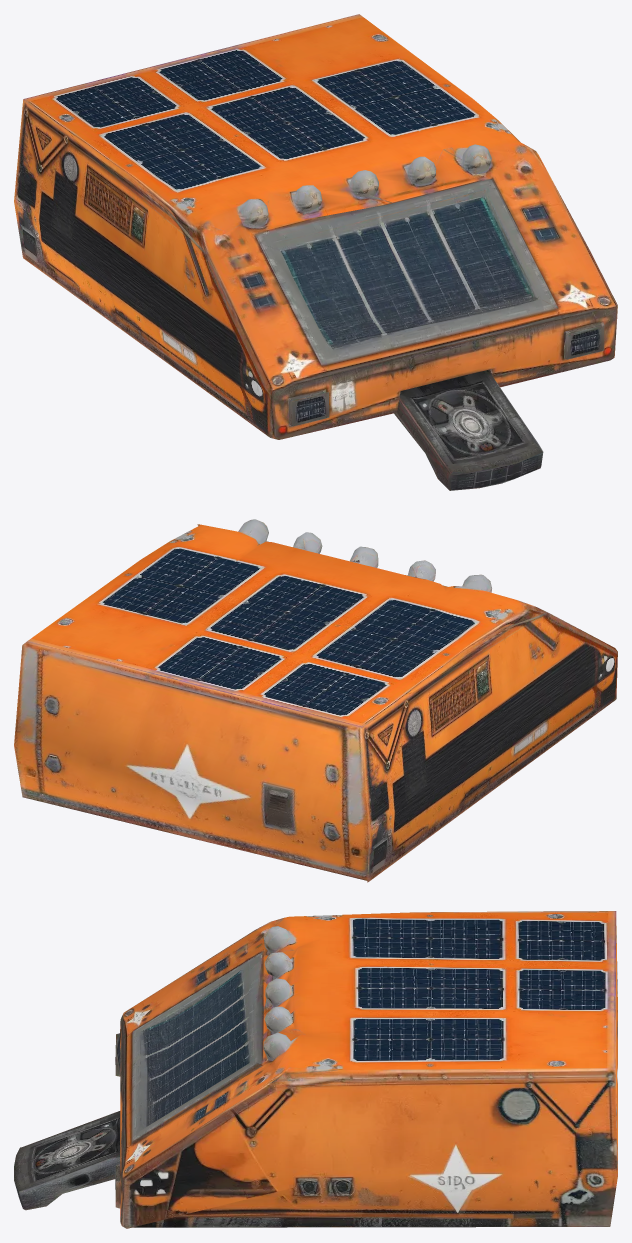
Rendered from RoverBody.glb.
3 views of the same model, one above another, from view 1: azimuth 30°, elevation 25°; view 2: azimuth 150°, elevation 25°; view 3: azimuth 270°, elevation 25° (orthographic). The views are drawn at different scales.
Visible parts, largest first — view 1: Mesh_0; view 2: Mesh_0; view 3: Mesh_0.
Boxes of the visible parts, bbox=[...] form: Mesh_0: bbox=[14, 14, 617, 490]; Mesh_0: bbox=[14, 519, 617, 882]; Mesh_0: bbox=[14, 911, 617, 1228].
Size of the model in its own units: 1.27 by 0.7376 by 1.91.
Materials: 1 (1 with a texture image).
